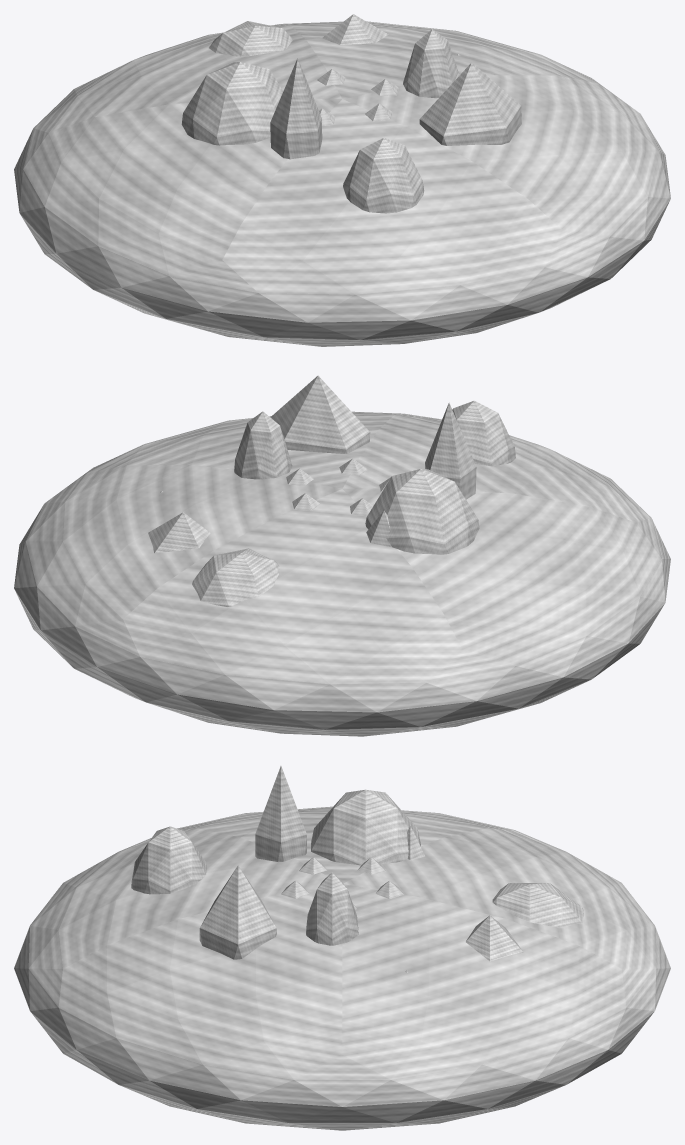
Rendered from sulfur_node_variant_c.glb.
3 views of the same model, one above another, from view 1: azimuth 30°, elevation 25°; view 2: azimuth 150°, elevation 25°; view 3: azimuth 270°, elevation 25° (orthographic).
Parts seen in each view (by area): view 1: Resource node bedrock.002, Exposed ore formation.027, Exposed ore formation.032, Exposed ore formation.030, Exposed ore formation.029, Exposed ore formation.021, Exposed ore formation.024, Exposed ore formation.023; view 2: Resource node bedrock.002, Exposed ore formation.027, Exposed ore formation.032, Exposed ore formation.024, Exposed ore formation.021, Exposed ore formation.030, Exposed ore formation.029, Exposed ore formation.023, Exposed ore formation.026; view 3: Resource node bedrock.002, Exposed ore formation.027, Exposed ore formation.032, Exposed ore formation.030, Exposed ore formation.029, Exposed ore formation.024, Exposed ore formation.021, Exposed ore formation.023.
Boxes of the visible parts, box(x1,y1,x2,y2) form: Resource node bedrock.002: box(14, 21, 670, 346); Exposed ore formation.027: box(181, 62, 283, 145); Exposed ore formation.032: box(419, 62, 521, 145); Exposed ore formation.030: box(343, 138, 424, 213); Exposed ore formation.029: box(270, 58, 322, 159); Exposed ore formation.021: box(403, 29, 459, 98); Exposed ore formation.024: box(209, 21, 292, 56); Exposed ore formation.023: box(322, 14, 388, 44); Resource node bedrock.002: box(14, 411, 670, 736); Exposed ore formation.027: box(365, 468, 479, 554); Exposed ore formation.032: box(270, 375, 370, 453); Exposed ore formation.024: box(192, 548, 279, 606); Exposed ore formation.021: box(234, 411, 292, 479); Exposed ore formation.030: box(452, 400, 515, 466); Exposed ore formation.029: box(425, 402, 476, 499); Exposed ore formation.023: box(148, 512, 210, 553); Exposed ore formation.026: box(366, 510, 392, 547); Resource node bedrock.002: box(14, 806, 670, 1130); Exposed ore formation.027: box(311, 789, 420, 865); Exposed ore formation.032: box(199, 865, 276, 959); Exposed ore formation.030: box(131, 826, 206, 894); Exposed ore formation.029: box(255, 766, 306, 861); Exposed ore formation.024: box(492, 883, 583, 927); Exposed ore formation.021: box(306, 872, 358, 945); Exposed ore formation.023: box(466, 915, 523, 961).
Size of what is drawn, in the model's own units: 6 by 2.53 by 6.
Materials: 2 (2 with a texture image).
